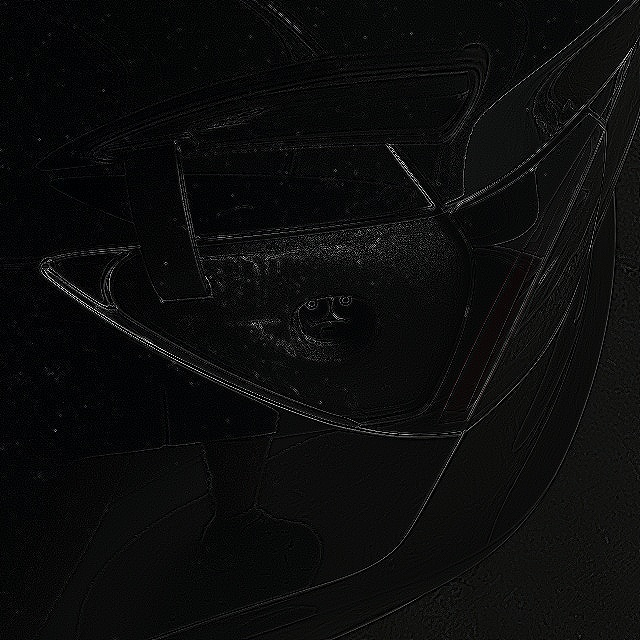port: (289, 295, 379, 362)
